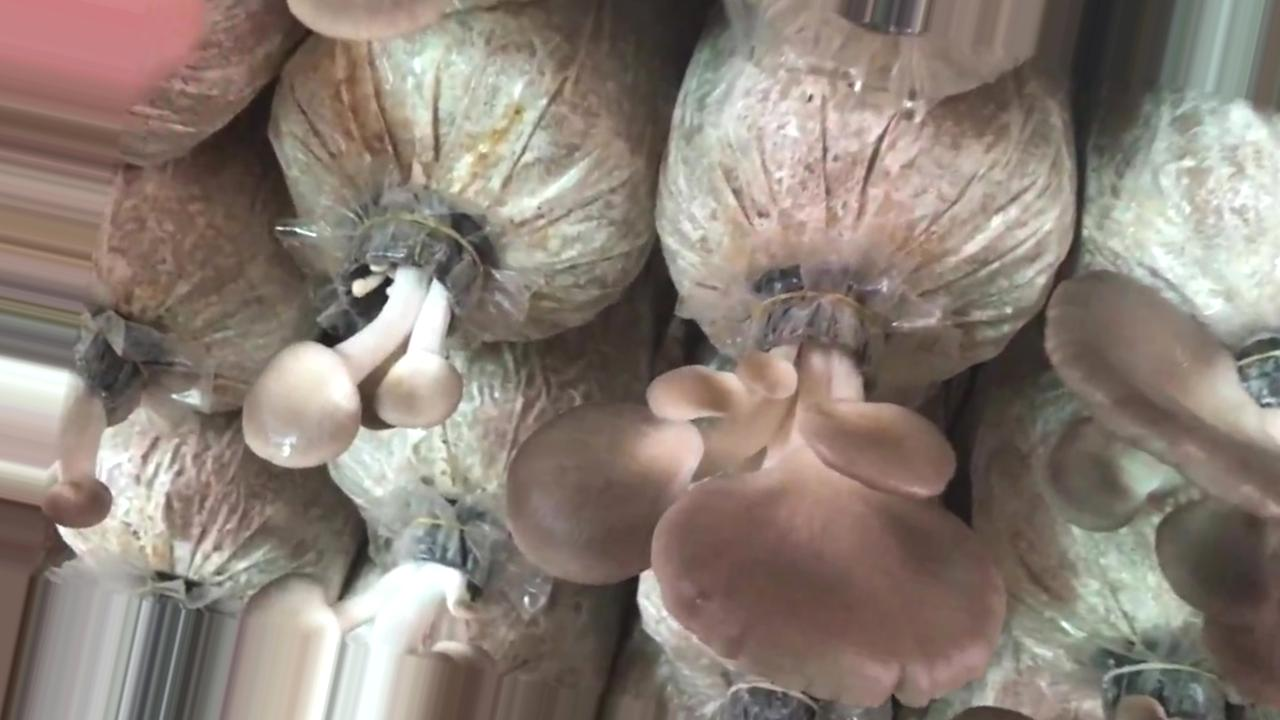nam: (506, 292, 1002, 706), (1046, 274, 1280, 621), (245, 203, 498, 464), (225, 525, 498, 720), (1, 317, 173, 528)
